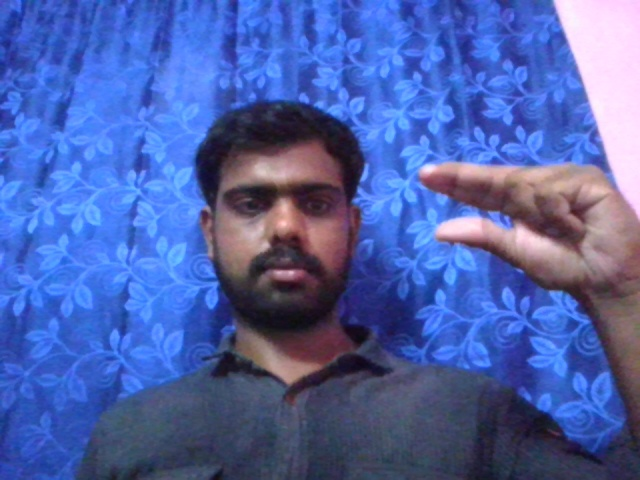No: (412, 133, 636, 281)
